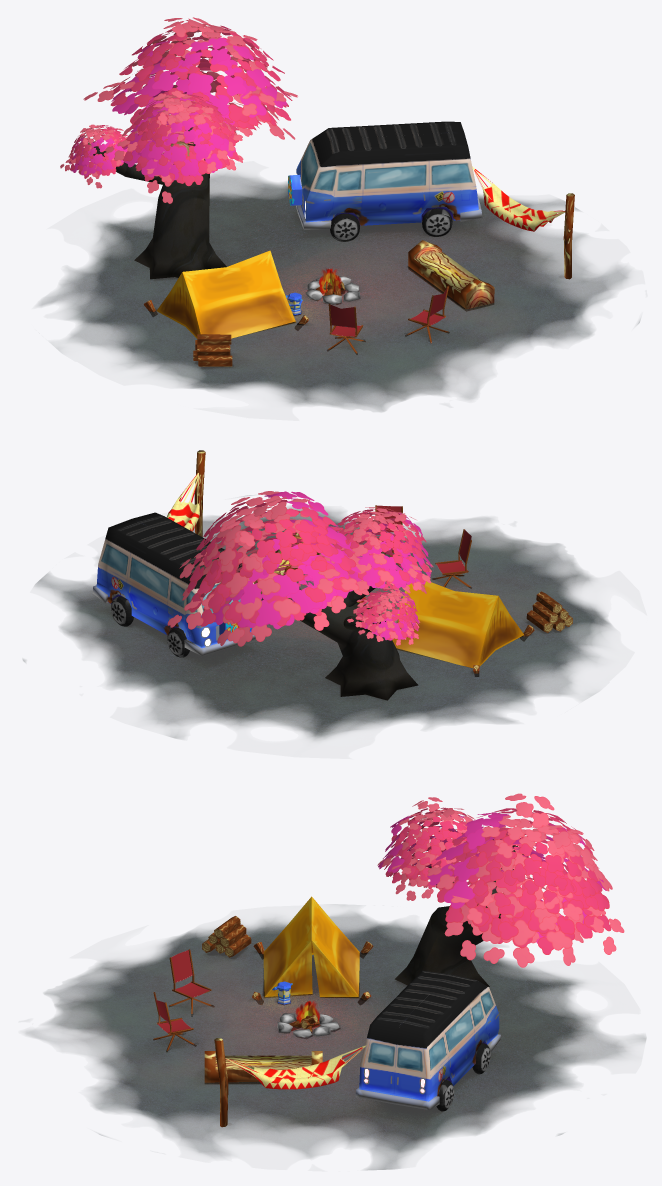
The picture shows the model from 3 angles, top to bottom: view 1: azimuth 30°, elevation 25°; view 2: azimuth 150°, elevation 25°; view 3: azimuth 270°, elevation 25°; orthographic projection.
Parts seen in each view (by area): view 1: Plane.002_10, MidGrow.005_7, kombi.001_8, tent.002_15, Cylinder.001_2, Plane_1, kombi.002_9, tent.001_14, chair_4, Icosphere.005_20, Cylinder.002_3, chair.002_6; view 2: Plane.002_10, MidGrow.005_7, kombi.001_8, tent.002_15, tent.001_14, kombi.002_9, Plane_1, Cylinder.002_3, chair.002_6; view 3: Plane.002_10, MidGrow.005_7, kombi.001_8, tent.002_15, Plane_1, Cylinder.001_2, tent.001_14, Icosphere.005_20, chair.002_6, kombi.002_9, chair_4, Cylinder.002_3.
Part boxes in pixels (box(x1,y1,x2,y2)): Plane.002_10: box(39, 172, 639, 411); MidGrow.005_7: box(60, 17, 297, 279); kombi.001_8: box(296, 121, 482, 229); tent.002_15: box(156, 250, 295, 338); Cylinder.001_2: box(408, 240, 494, 310); Plane_1: box(472, 166, 565, 231); kombi.002_9: box(330, 208, 452, 241); tent.001_14: box(193, 334, 232, 366); chair_4: box(405, 286, 448, 343); Icosphere.005_20: box(305, 276, 360, 304); Cylinder.002_3: box(563, 193, 574, 279); chair.002_6: box(329, 304, 360, 336); Plane.002_10: box(23, 495, 611, 740); MidGrow.005_7: box(167, 491, 433, 700); kombi.001_8: box(92, 512, 255, 656); tent.002_15: box(392, 578, 523, 668); tent.001_14: box(526, 591, 572, 632); kombi.002_9: box(111, 596, 189, 657); Plane_1: box(166, 473, 199, 531); Cylinder.002_3: box(194, 450, 205, 536); chair.002_6: box(436, 530, 471, 573); Plane.002_10: box(26, 912, 645, 1169); MidGrow.005_7: box(377, 793, 624, 986); kombi.001_8: box(355, 970, 500, 1109); tent.002_15: box(263, 896, 359, 997); Plane_1: box(225, 1045, 366, 1089); Cylinder.001_2: box(204, 1051, 322, 1083); tent.001_14: box(202, 916, 251, 957); Icosphere.005_20: box(277, 1013, 339, 1038); chair.002_6: box(171, 950, 209, 997); kombi.002_9: box(436, 1043, 490, 1111); chair_4: box(153, 992, 196, 1051); Cylinder.002_3: box(214, 1038, 228, 1127).
Size of the model in its own units: 12.69 by 4.78 by 12.69.
6 materials, 6 textured.
